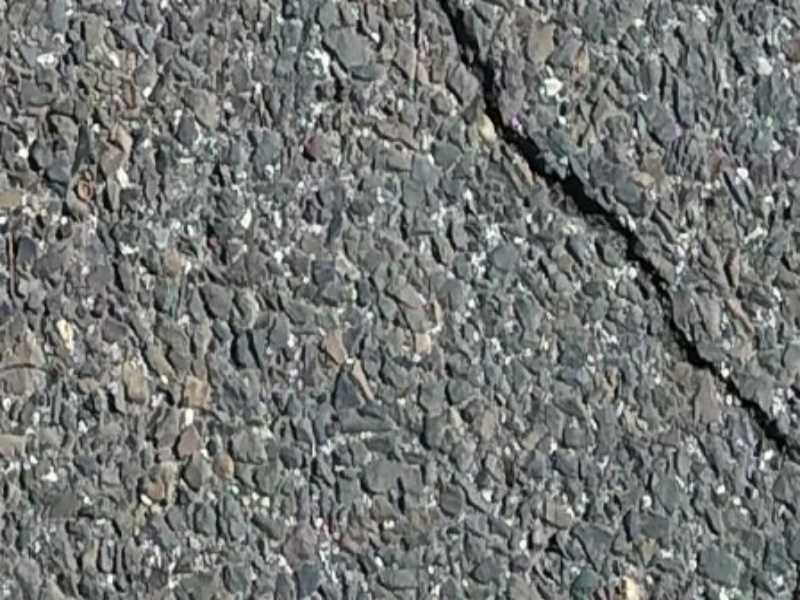crack: (398, 6, 795, 462)
